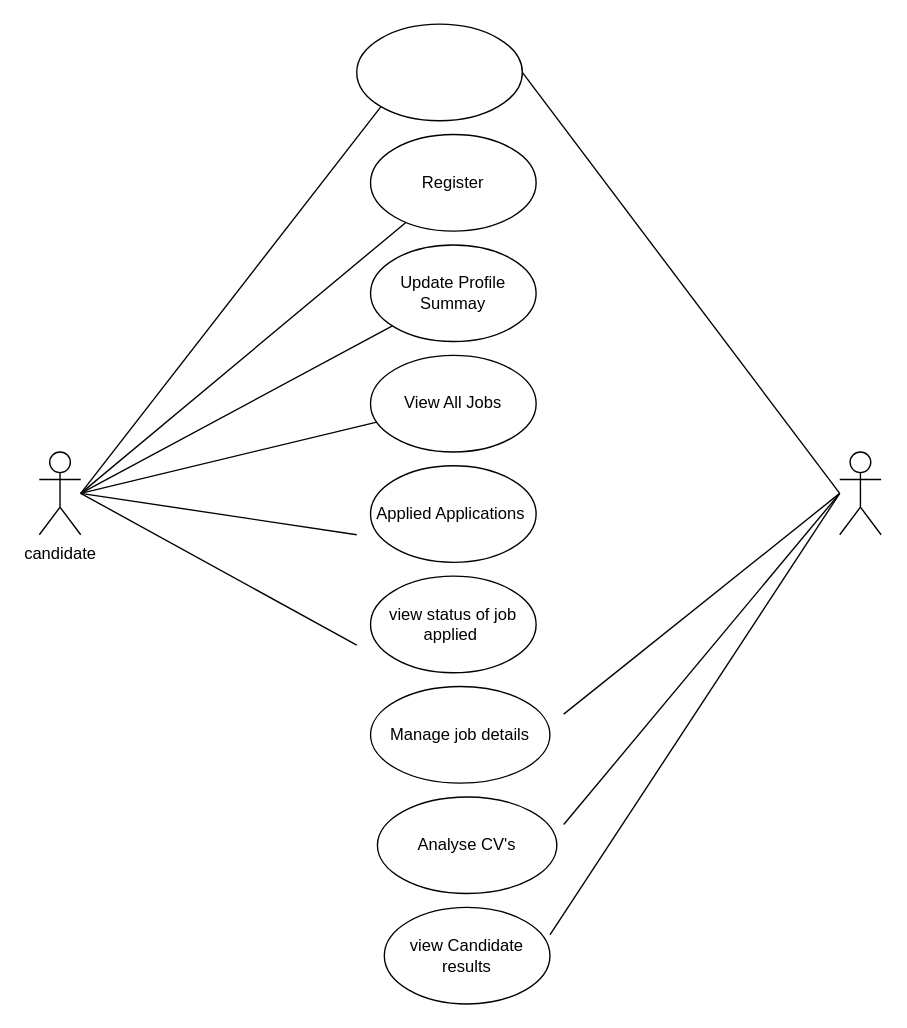
The diagram is 907 pixels wide and 1028 high, and some of its shapes have lost their labels. The centre of each missing label's shape, as x and y in pixels:
"Admin" goes at [859,493].
"Login" goes at [438,72].
